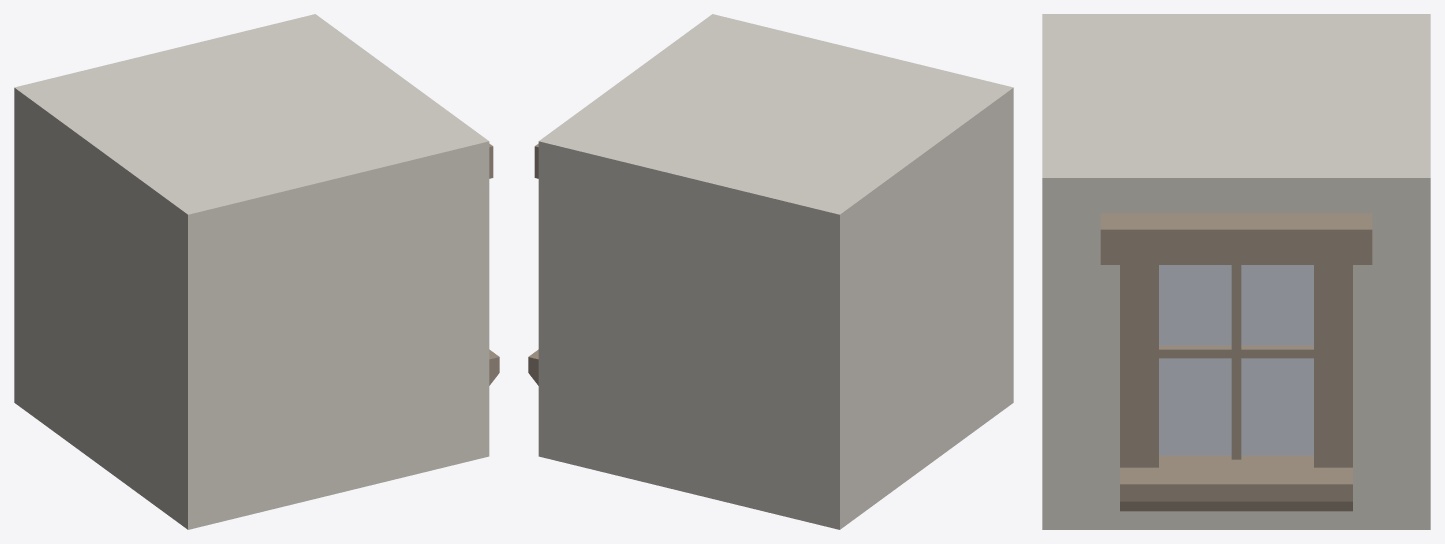
The model's file is Stucco_Window_Single_Narrow.glb.
3 renders of one model, left to right at view 1: azimuth 30°, elevation 25°; view 2: azimuth 150°, elevation 25°; view 3: azimuth 270°, elevation 25°, orthographic. The views are drawn at different scales.
Parts seen in each view (by area): view 1: object2; view 2: object2; view 3: object2, object3, object1.
Part boxes in pixels (x1,y1,x2,y2): object2: (14,14,489,529); object2: (538,14,1013,529); object2: (1042,14,1430,529); object3: (1100,213,1372,511); object1: (1159,265,1313,459).
Bounding box in the file's own units: 1.15 × 1 × 1.
